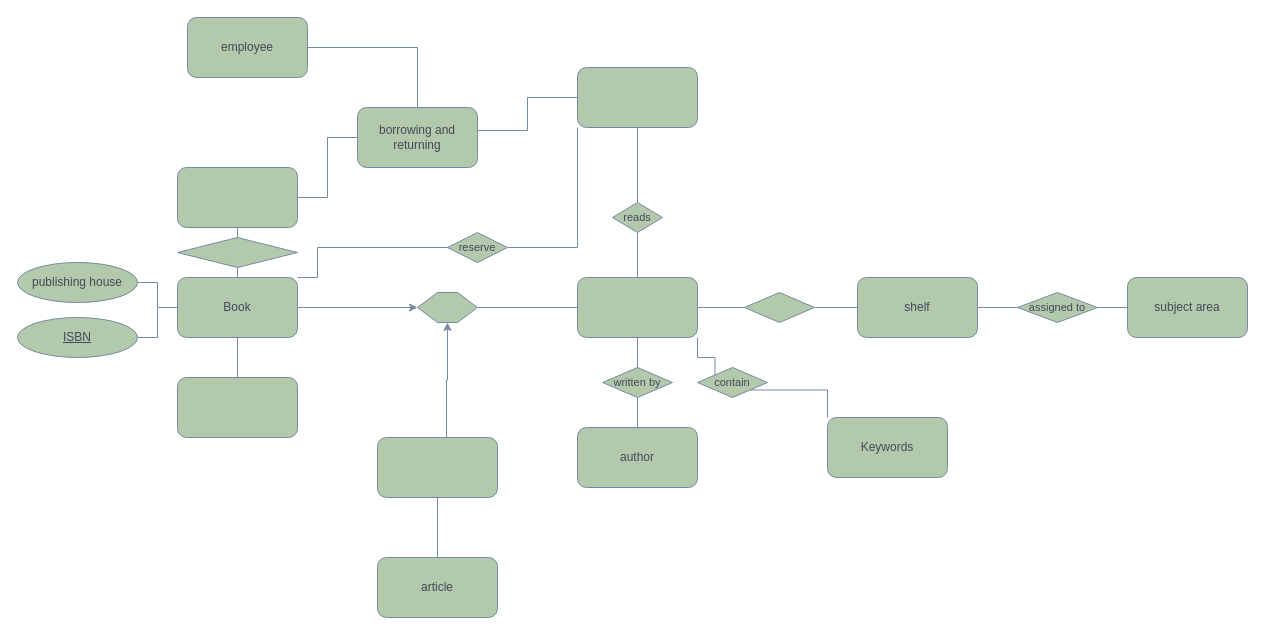
Some shapes in this 1265 by 635 pixel diagram are drawn without their labels. The centre of each missing label's shape, as x and y in pixels:
"are multiblications of" belongs at point (237, 252).
"copies" belongs at point (237, 197).
"customer" belongs at point (637, 97).
"is-a" belongs at point (447, 307).
"Jornal" belongs at point (437, 467).
"Publication" belongs at point (637, 307).
"stored on" belongs at point (779, 307).
"translation template" belongs at point (237, 407).
